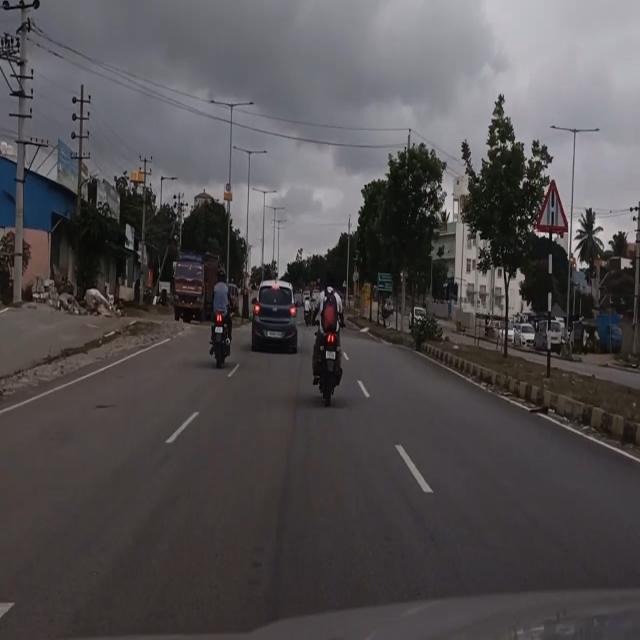bien_cam: (535, 178, 569, 235)
